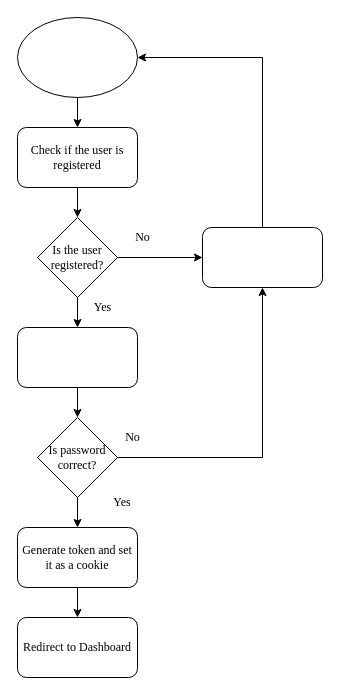
Some shapes in this 340 by 695 pixel diagram are drawn without their labels. The centre of each missing label's shape, as x and y in pixels:
"Check if passwords match" goes at [77,357].
"Render login page with a ppropriate error message" goes at [262,257].
"User enters username and password" goes at [77,57].
